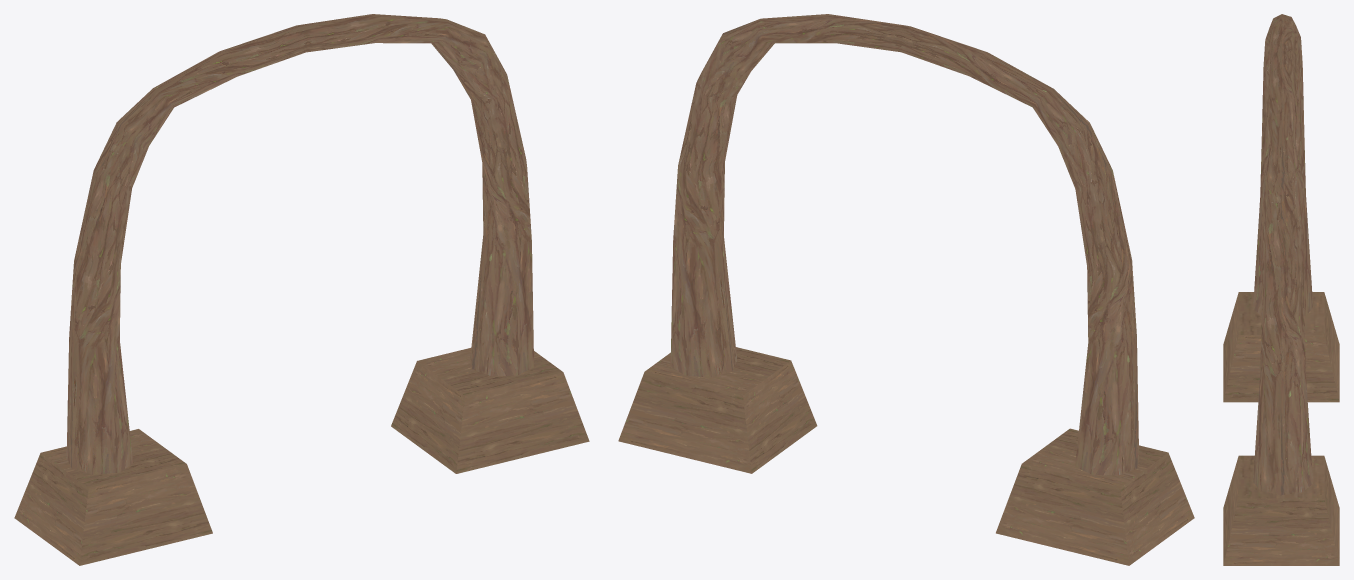
The model's file is Homeworld_Exterior_Common_Flower_Decoration_Door_01_C_Vo.fbx.
The picture shows the model from 3 angles, left to right: view 1: azimuth 30°, elevation 25°; view 2: azimuth 150°, elevation 25°; view 3: azimuth 270°, elevation 25°; orthographic projection. The views are drawn at different scales.
Visible parts, largest first — view 1: Homeworld_Exterior_Common_Flower_Decoration_Door_01_C_Vo; view 2: Homeworld_Exterior_Common_Flower_Decoration_Door_01_C_Vo; view 3: Homeworld_Exterior_Common_Flower_Decoration_Door_01_C_Vo.
Boxes of the visible parts, bbox=[...] form: Homeworld_Exterior_Common_Flower_Decoration_Door_01_C_Vo: bbox=[14, 14, 589, 565]; Homeworld_Exterior_Common_Flower_Decoration_Door_01_C_Vo: bbox=[618, 14, 1194, 565]; Homeworld_Exterior_Common_Flower_Decoration_Door_01_C_Vo: bbox=[1223, 14, 1339, 565].
Size of the model in its own units: 3.6 by 3.06 by 0.7987.
